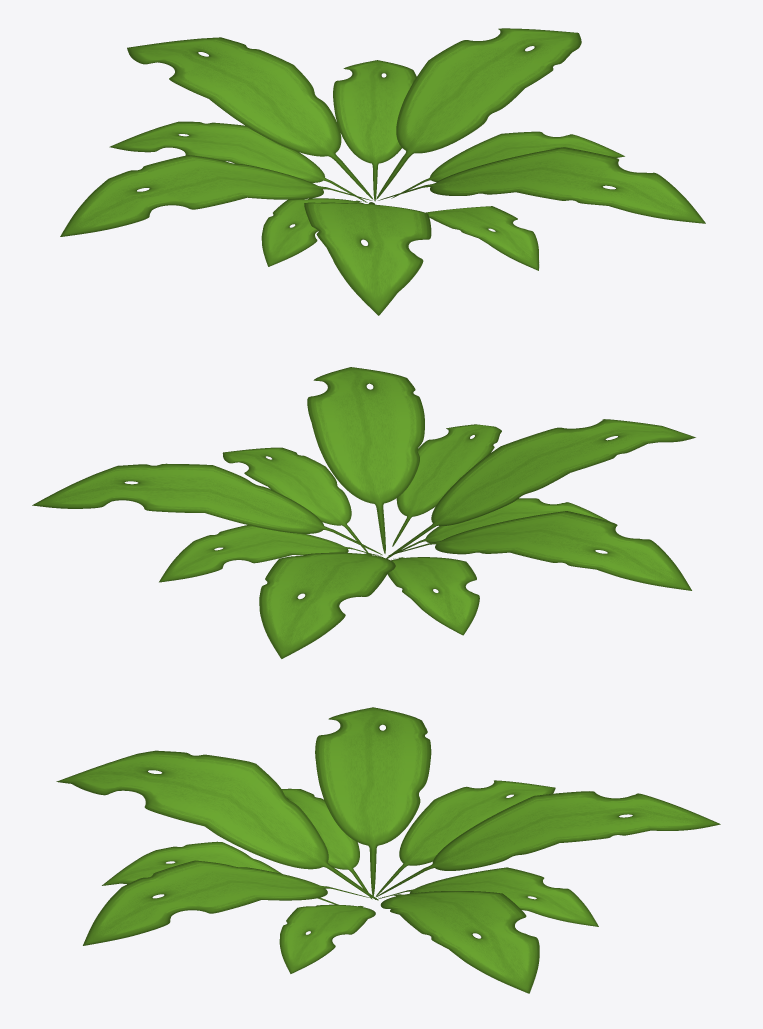
The model's file is Flowers3LPFinal.fbx.
3 views of the same model, one above another, from view 1: azimuth 30°, elevation 25°; view 2: azimuth 150°, elevation 25°; view 3: azimuth 270°, elevation 25° (orthographic). The views are drawn at different scales.
Visible parts, largest first — view 1: Plane.003; view 2: Plane.003; view 3: Plane.003.
Part boxes in pixels (bbox=[...]): Plane.003: bbox=[60, 28, 705, 315]; Plane.003: bbox=[32, 367, 695, 658]; Plane.003: bbox=[56, 707, 720, 993].
Size of the model in its own units: 305 by 37.76 by 306.
